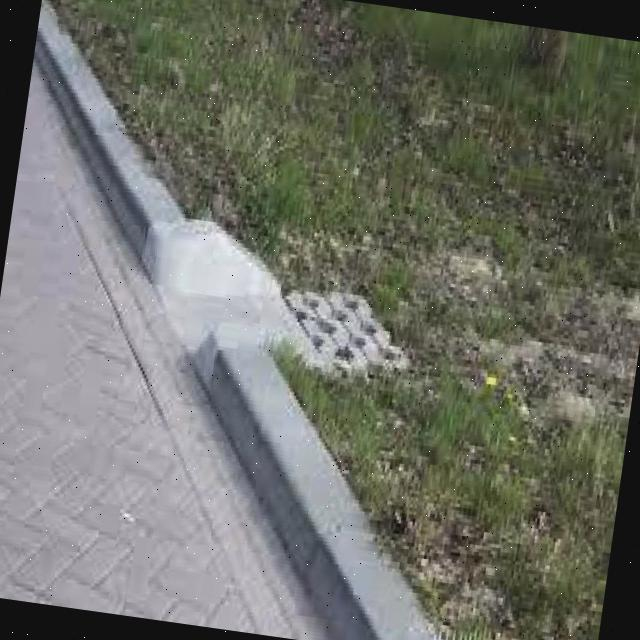curb: (40, 1, 441, 640)
